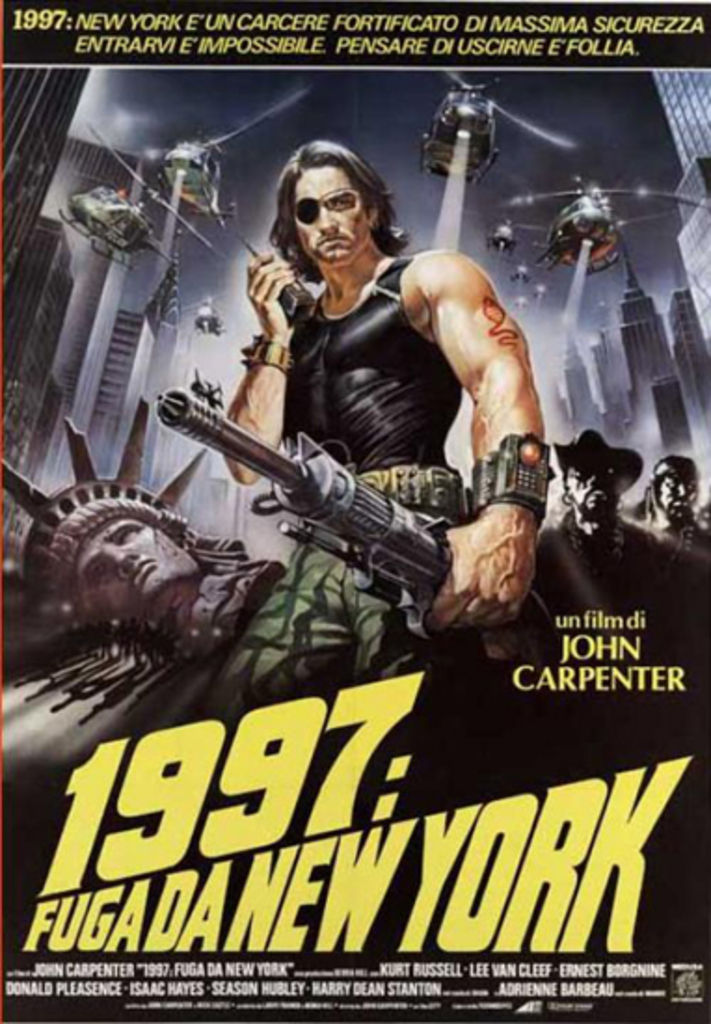Person: (2, 140, 711, 718)
